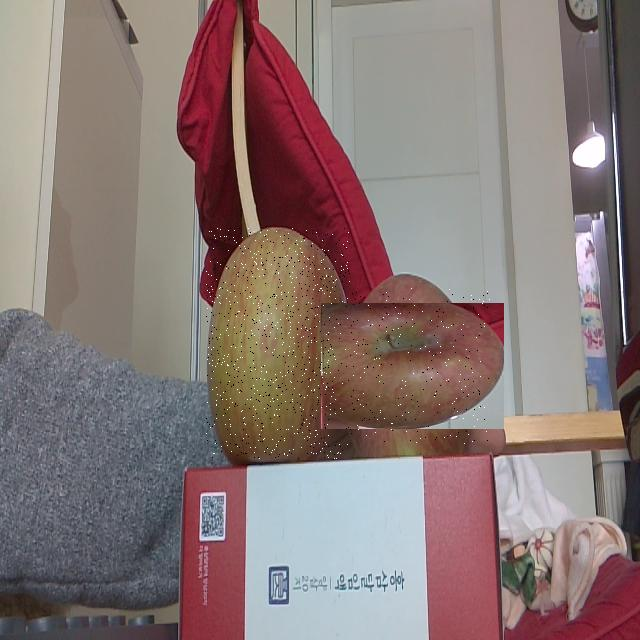apple: (206, 228, 350, 460), (335, 288, 490, 444)
